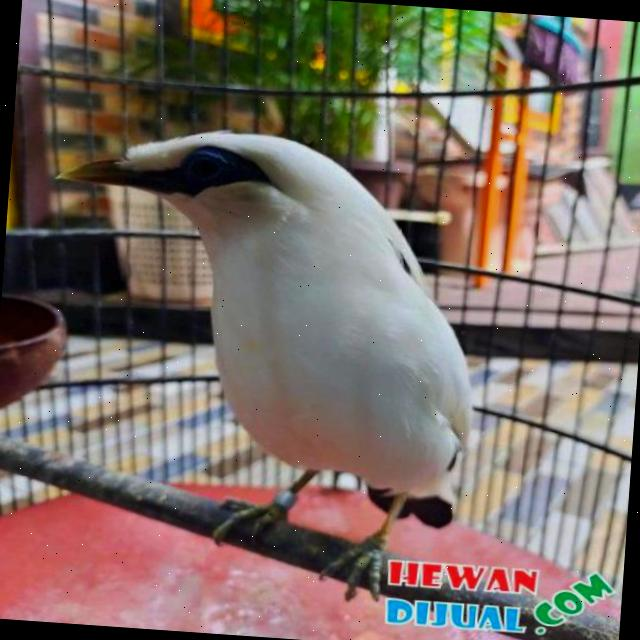Jalak Bali: (16, 87, 559, 616)
